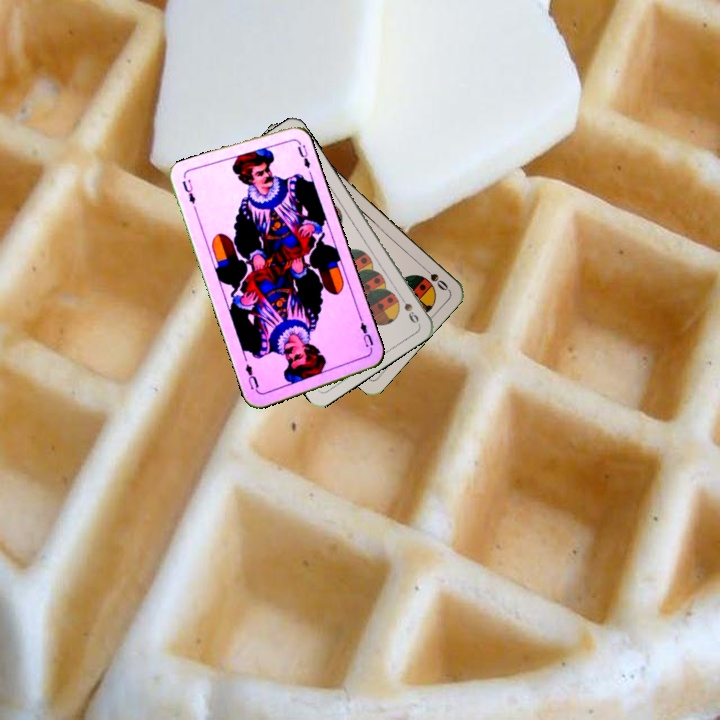EU: (354, 314, 376, 350), (178, 175, 198, 206)
S9: (394, 289, 422, 326)
SO: (418, 261, 451, 293)
